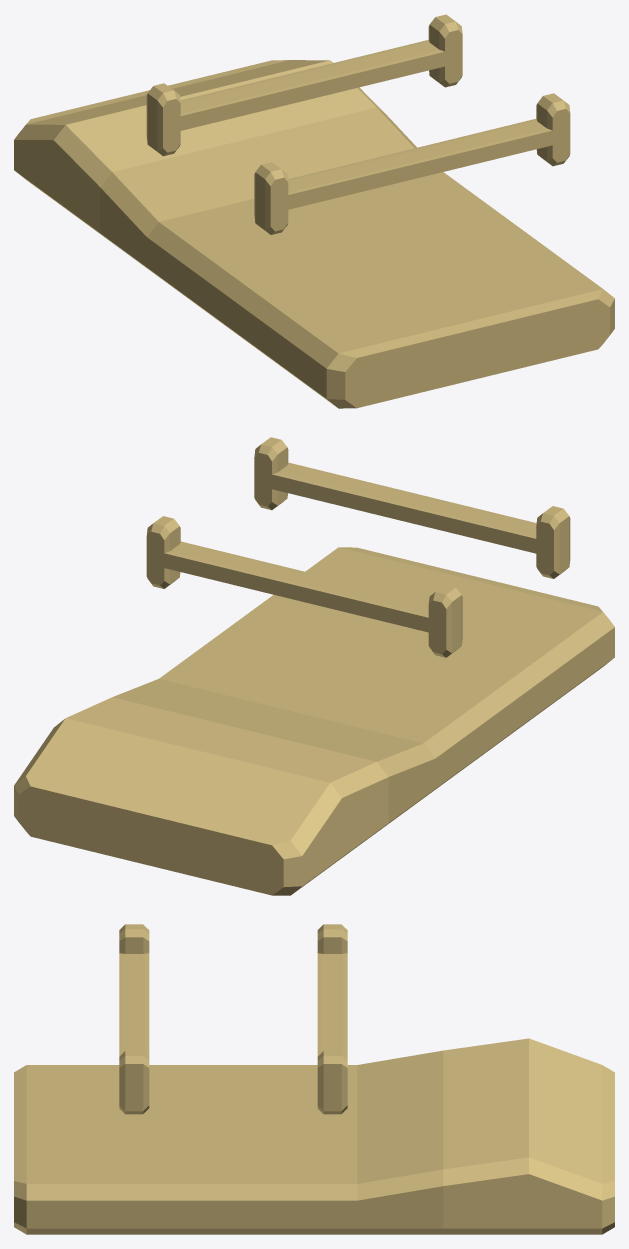
File: tallow_medium_b.glb
3 views of the same model, one above another, from view 1: azimuth 30°, elevation 25°; view 2: azimuth 150°, elevation 25°; view 3: azimuth 270°, elevation 25° (orthographic). The views are drawn at different scales.
Parts seen in each view (by area): view 1: tallow_medium_b; view 2: tallow_medium_b; view 3: tallow_medium_b.
Boxes of the visible parts, x1,y1,x2,y2 form: tallow_medium_b: (14, 14, 614, 408); tallow_medium_b: (14, 437, 614, 895); tallow_medium_b: (14, 924, 614, 1234).
Bounding box in the file's own units: 3.5 × 2.21 × 6.5.
